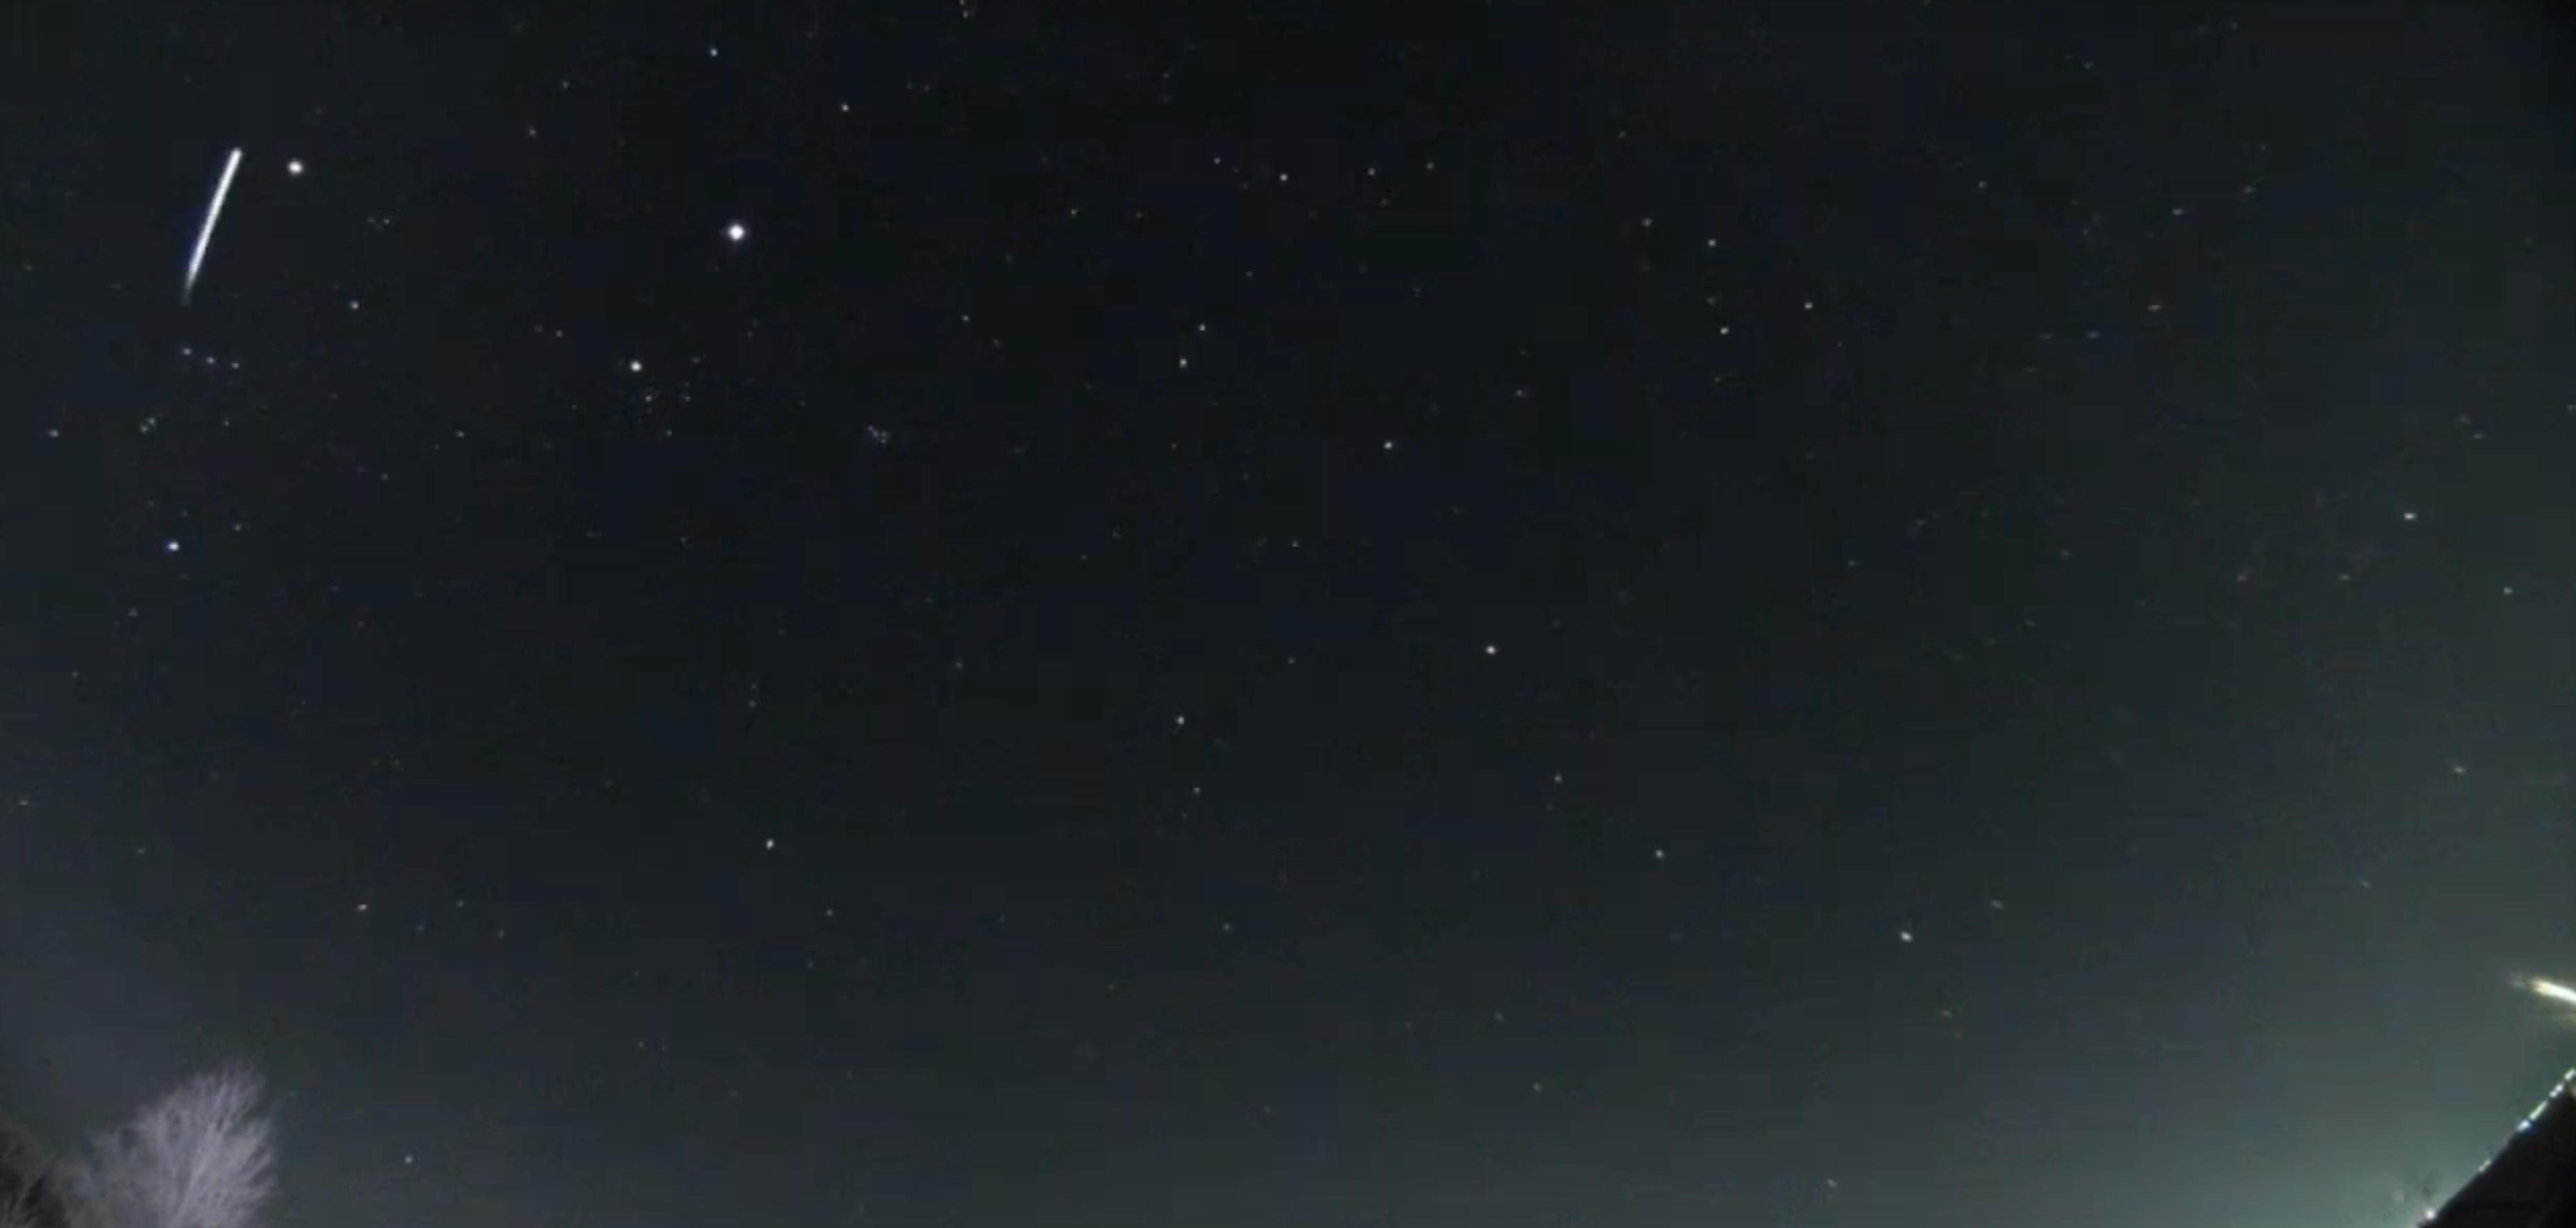meteorite: (143, 110, 292, 338)
